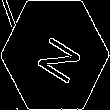N_NW: (27, 25, 83, 85)
